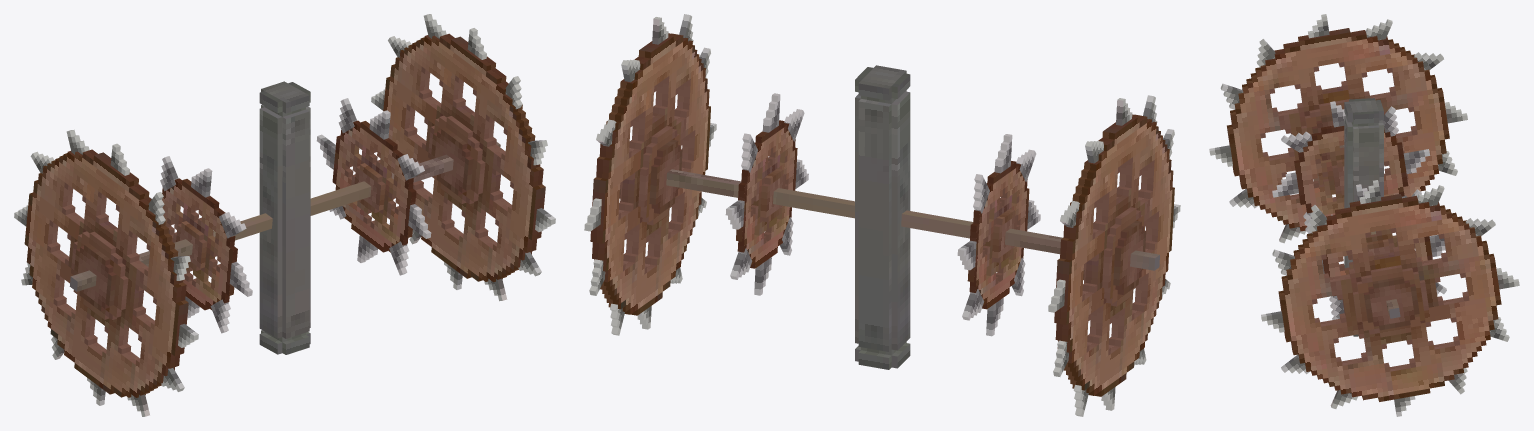
Rendered from trap-26_2.glb.
3 renders of one model, left to right at view 1: azimuth 30°, elevation 25°; view 2: azimuth 150°, elevation 25°; view 3: azimuth 270°, elevation 25°, orthographic. The views are drawn at different scales.
Parts seen in each view (by area): view 1: blade1$$(1)-Local; view 2: blade1$$(1)-Local; view 3: blade1$$(1)-Local.
Boxes of the visible parts, x1=… form: blade1$$(1)-Local: x1=14, y1=14, x2=555, y2=416; blade1$$(1)-Local: x1=584, y1=14, x2=1180, y2=416; blade1$$(1)-Local: x1=1209, y1=14, x2=1519, y2=416.
Size of the model in its own units: 1.5 by 0.8385 by 1.
Materials: 6 (6 with a texture image).
